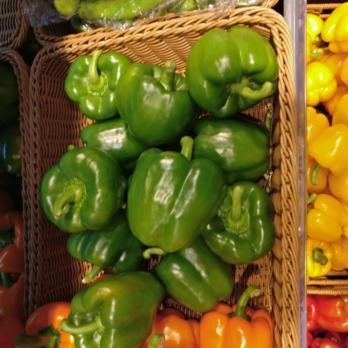Capsicum: (38, 35, 275, 348)
